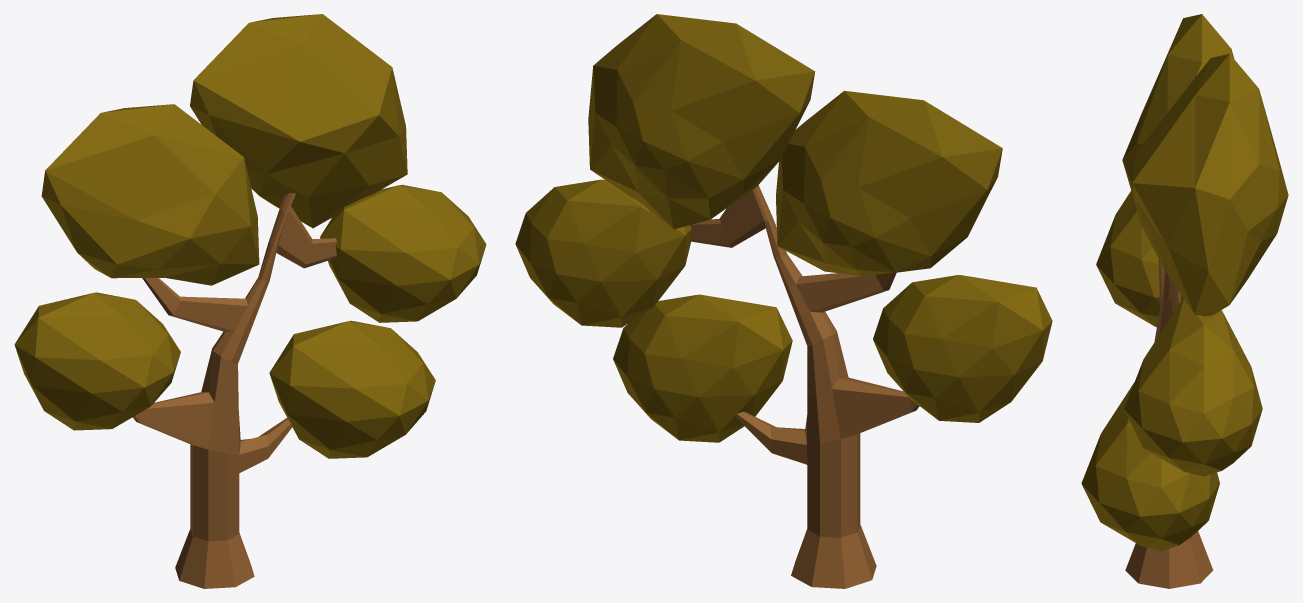
The model's file is LargeTree3.fbx.
The picture shows the model from 3 angles, left to right: view 1: azimuth 30°, elevation 25°; view 2: azimuth 150°, elevation 25°; view 3: azimuth 270°, elevation 25°; orthographic projection. The views are drawn at different scales.
Parts seen in each view (by area): view 1: Cylinder.001; view 2: Cylinder.001; view 3: Cylinder.001.
Part boxes in pixels (x1,y1,x2,y2): Cylinder.001: (14,14,486,588); Cylinder.001: (515,14,1052,588); Cylinder.001: (1081,14,1288,588).
Bounding box in the file's own units: 560 × 579 × 198.
